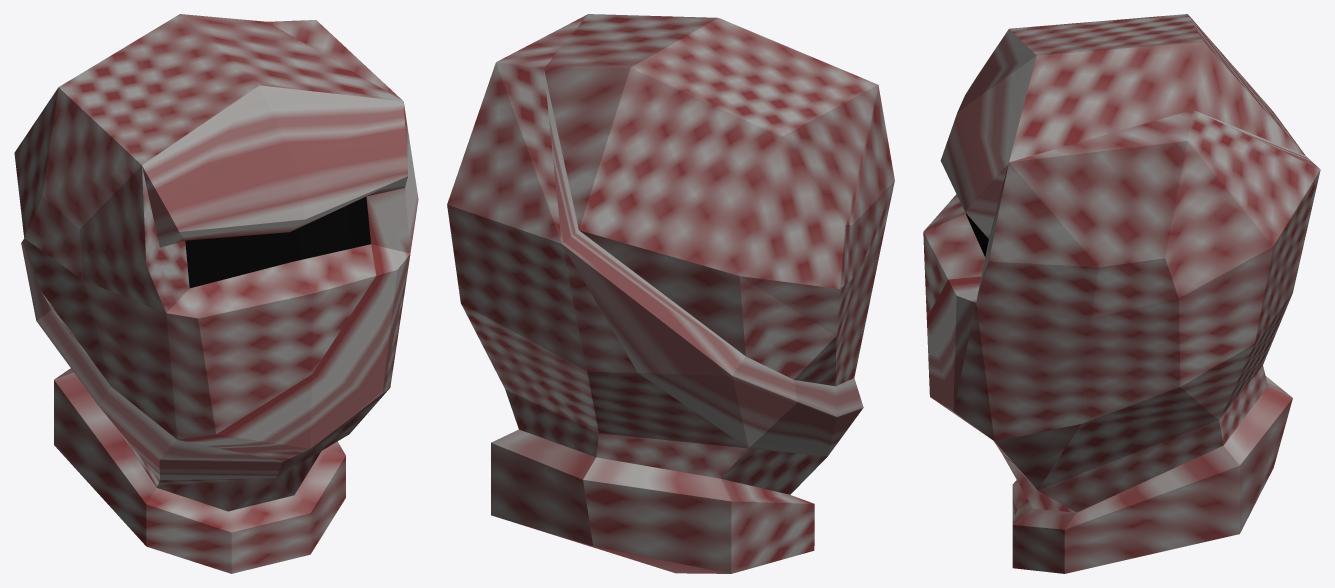
Rendered from SM_Chr_Attach_Insurgent_Headpiece_01.fbx.
3 renders of one model, left to right at view 1: azimuth 30°, elevation 25°; view 2: azimuth 150°, elevation 25°; view 3: azimuth 270°, elevation 25°, orthographic. The views are drawn at different scales.
Visible parts, largest first — view 1: SM_Chr_Attach_Insurgent_Headpiece_01; view 2: SM_Chr_Attach_Insurgent_Headpiece_01; view 3: SM_Chr_Attach_Insurgent_Headpiece_01.
Boxes of the visible parts, bbox=[...] form: SM_Chr_Attach_Insurgent_Headpiece_01: bbox=[14, 14, 418, 573]; SM_Chr_Attach_Insurgent_Headpiece_01: bbox=[447, 14, 894, 573]; SM_Chr_Attach_Insurgent_Headpiece_01: bbox=[923, 14, 1320, 573].
Bounding box in the file's own units: 30.48 × 41.63 × 29.47.
